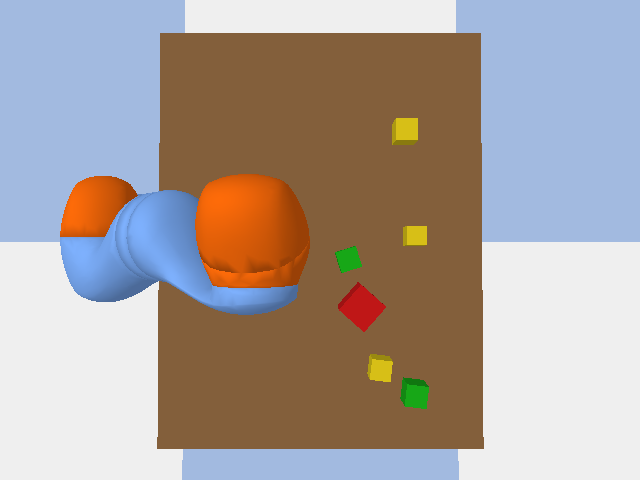green_obj: (400, 377, 428, 408), (335, 246, 361, 272)
red_obj: (338, 282, 385, 331)
yellow_obj: (367, 354, 392, 381), (392, 118, 417, 144), (403, 226, 426, 245)
